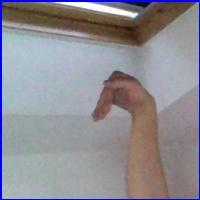del: (88, 65, 152, 128)
